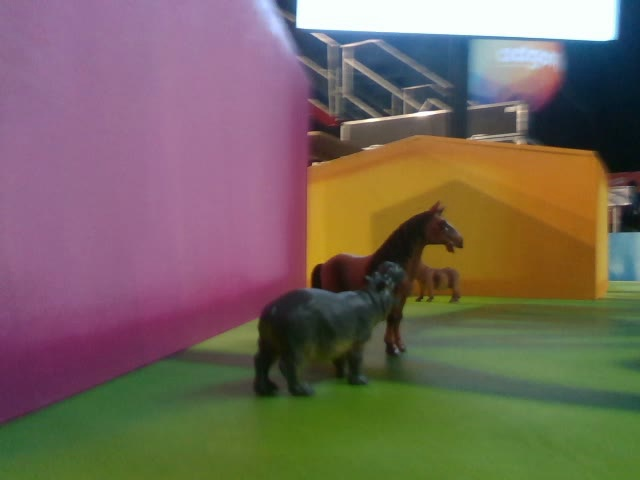toy: (252, 259, 404, 396)
